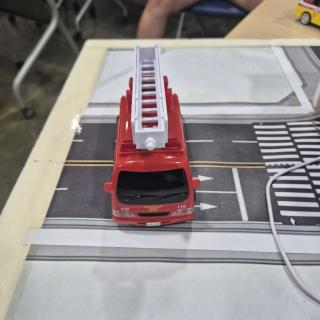Fire_truck: (105, 44, 200, 226)
